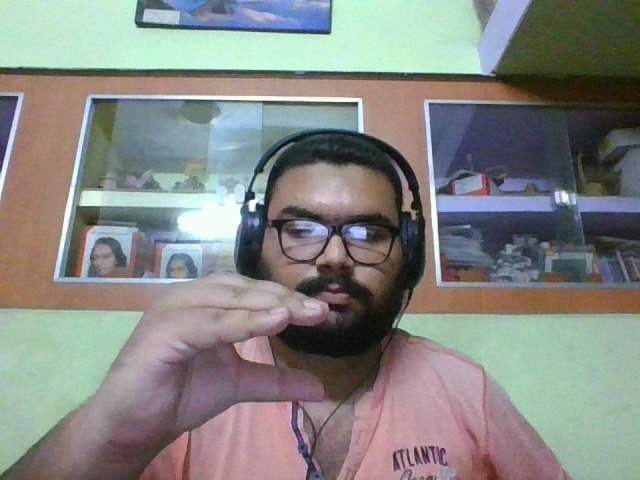no: (122, 269, 328, 437)
